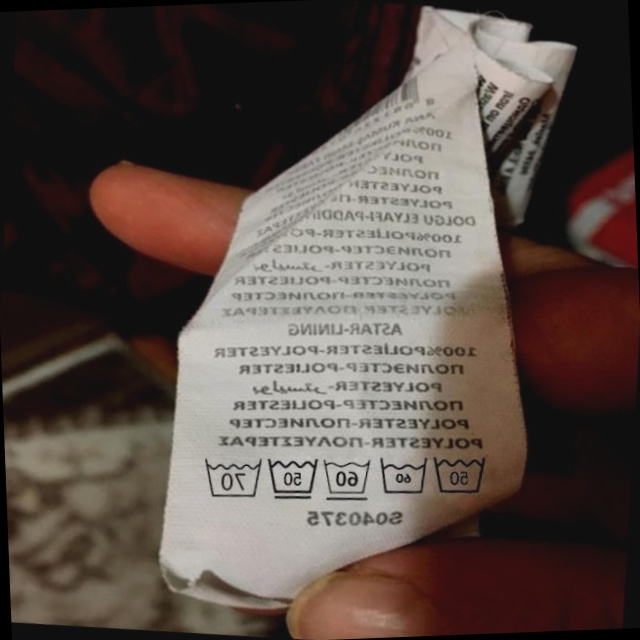50C: (426, 444, 495, 503), (260, 450, 323, 506)
60C: (316, 450, 375, 505), (372, 449, 432, 503)
70C: (195, 451, 265, 504)
